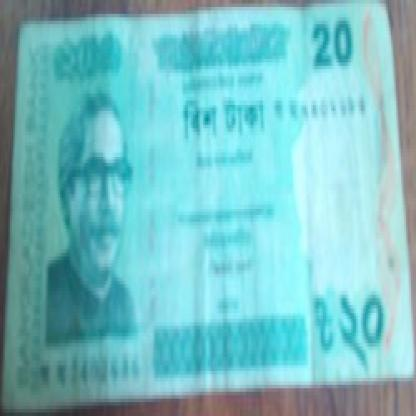Twenty: (303, 278, 399, 367), (174, 101, 270, 142), (55, 35, 130, 83), (302, 21, 354, 80)
